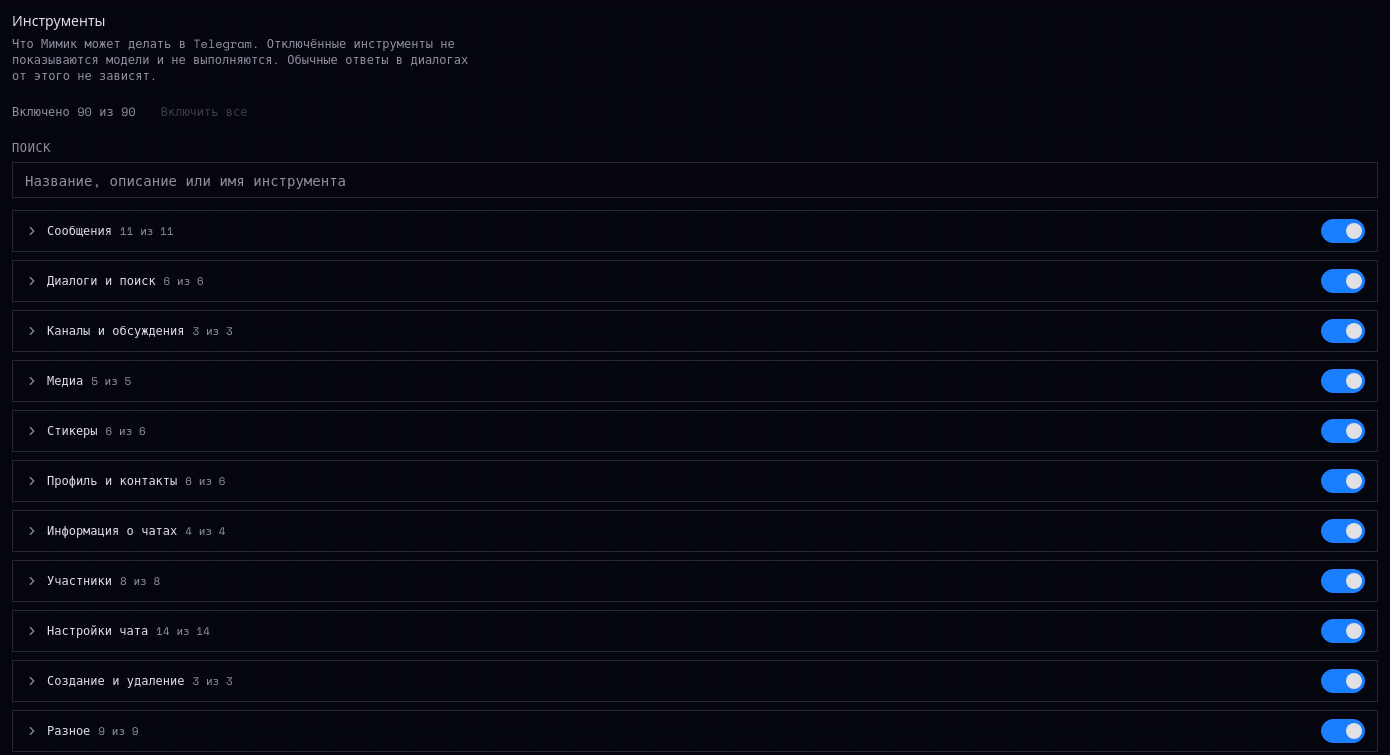
Test: ToolsSettings › свёрнутые группы показывают счётчики, раскрытие показывает инструменты
Expected: the text "Включено 90 из 90" is shown, [12,104,136,120]
Expected: the switch labelled "Отправка сообщения" is not shown
Click the button with test id "tool-group-messages" at (80, 230), box [25,223,1309,239]
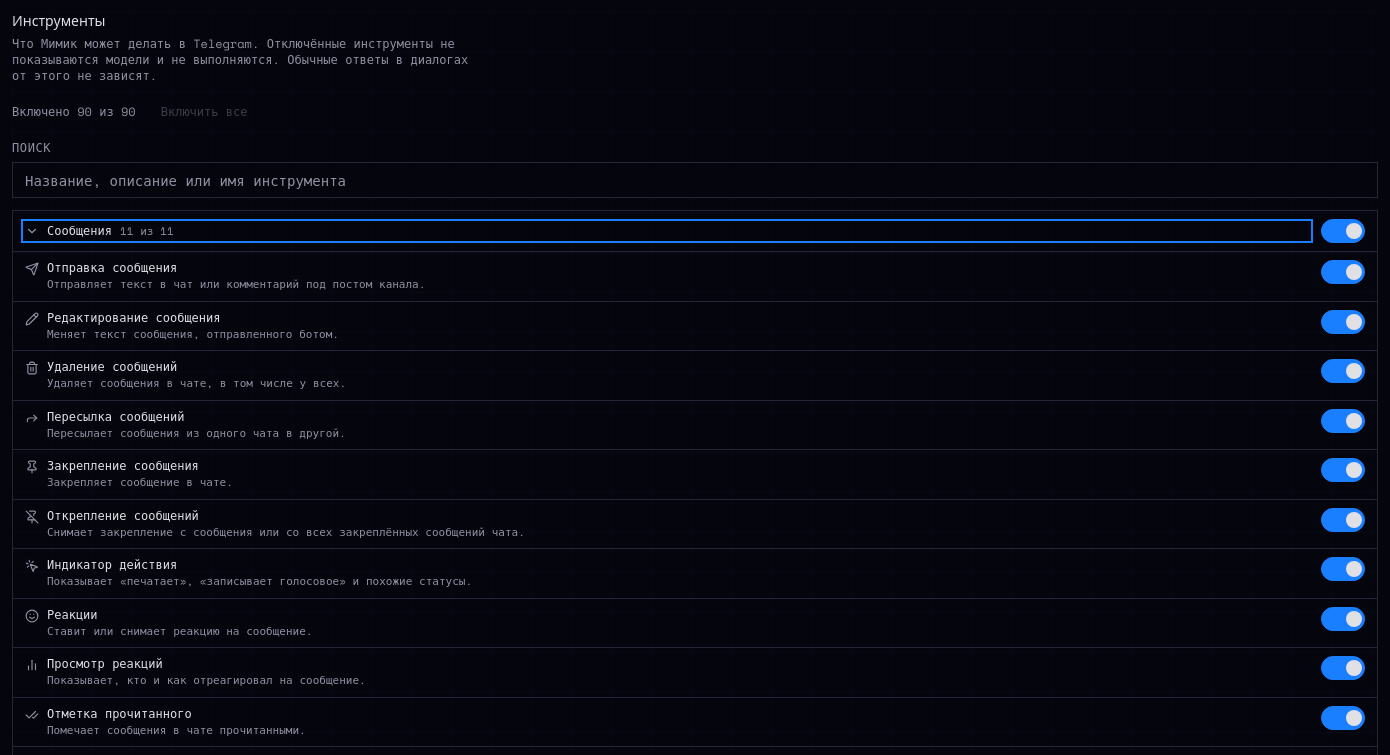
Expected: the switch named "Отправка сообщения" is shown, [1321,260,1365,284]
